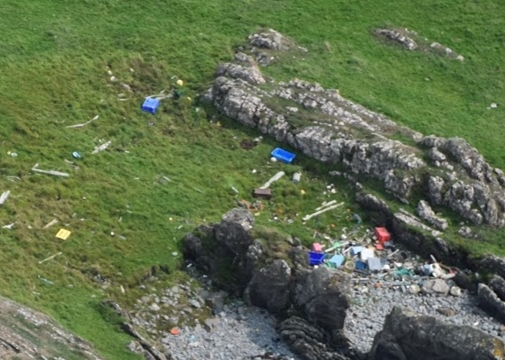scattered_barrel: (26, 148, 89, 244), (238, 140, 311, 203)
straight_bar: (299, 197, 348, 230)
together_barrel: (303, 223, 456, 282)
white_in_green: (125, 82, 176, 129), (155, 309, 197, 349)
